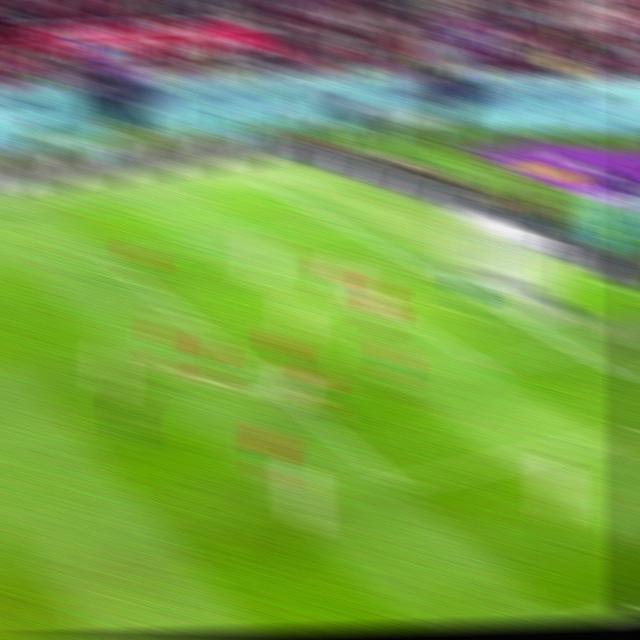bigarea_bottom_inner: (379, 468, 415, 502)
bigarea_top_inner: (99, 251, 128, 271)
bigarea_top_outter: (325, 218, 352, 233)
bottom_arc_area_intersection: (270, 386, 299, 406)
corner: (250, 179, 274, 190)
smallarea_bottom_inner: (470, 351, 503, 379)
smallarea_bottom_outter: (558, 340, 588, 359)
smallarea_top_outter: (398, 254, 427, 273)
top_arc_area_intersection: (170, 303, 197, 323)
